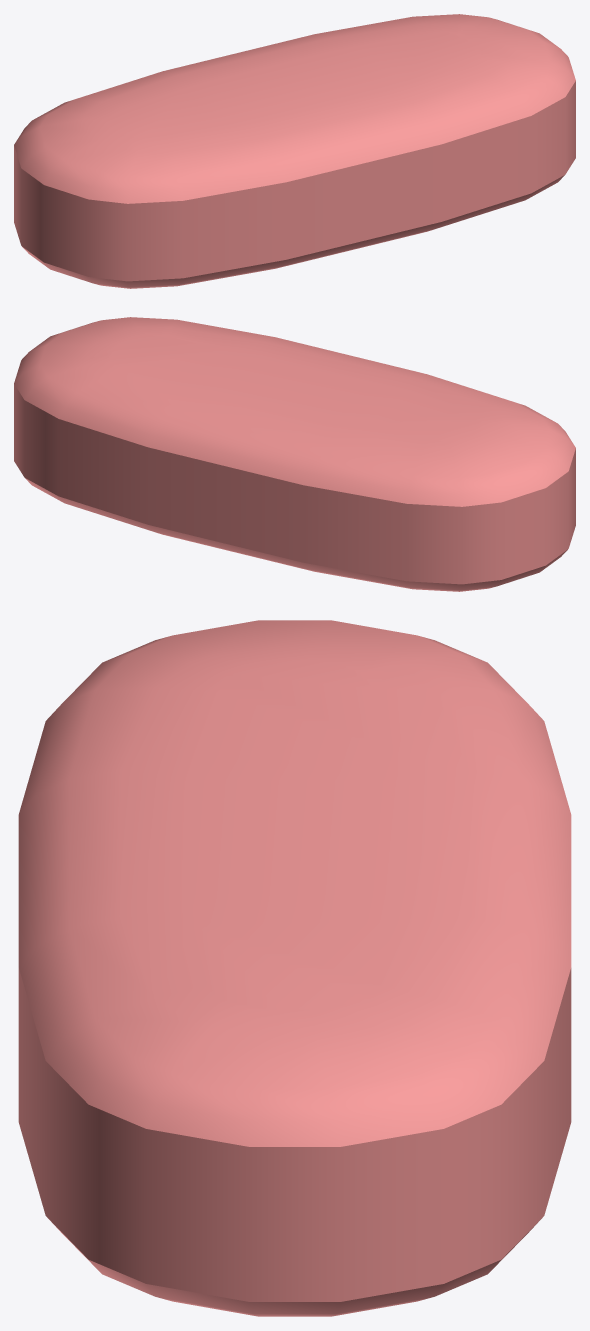
Rendered from Pill.fbx.
3 renders of one model, top to bottom at view 1: azimuth 30°, elevation 25°; view 2: azimuth 150°, elevation 25°; view 3: azimuth 270°, elevation 25°, orthographic. The views are drawn at different scales.
Visible parts, largest first — view 1: Pill; view 2: Pill; view 3: Pill.
Part boxes in pixels (box(x1,y1,x2,y2)): Pill: box(14, 14, 575, 288); Pill: box(14, 317, 575, 591); Pill: box(18, 620, 571, 1316).
Bounding box in the file's own units: 2.65 × 1.21 × 0.6322.
